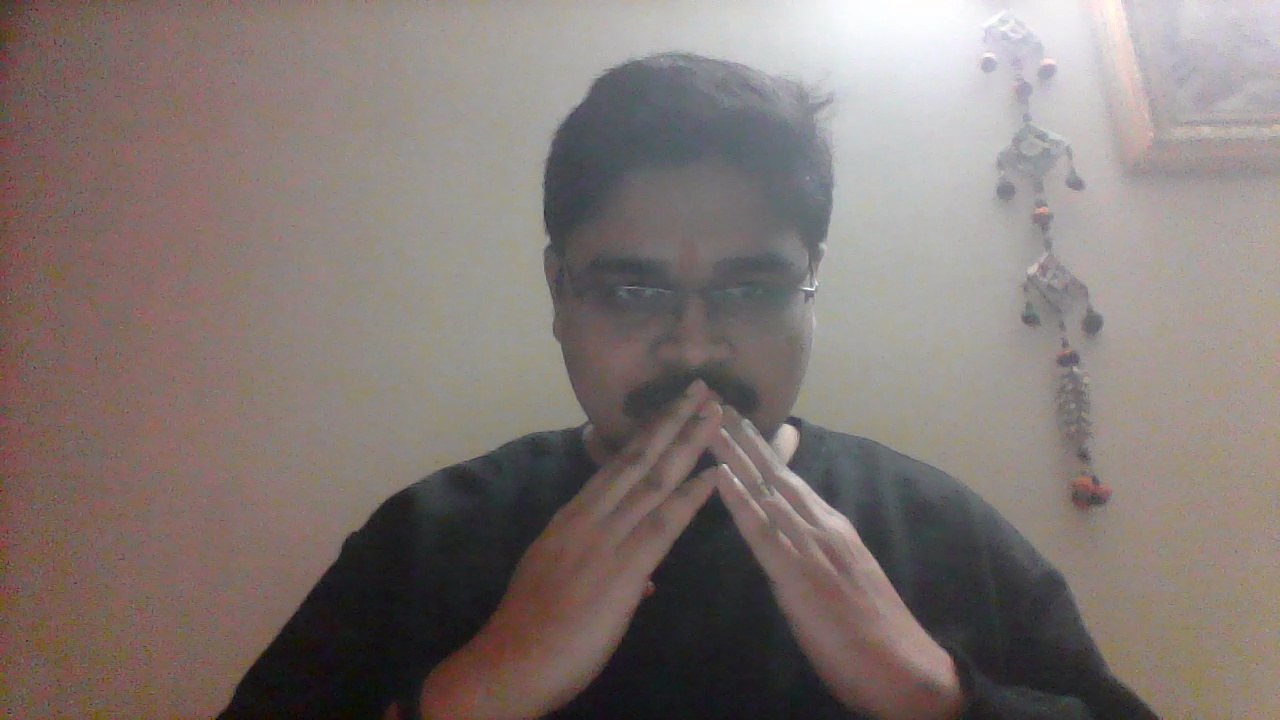Thanks: (481, 379, 953, 714)
